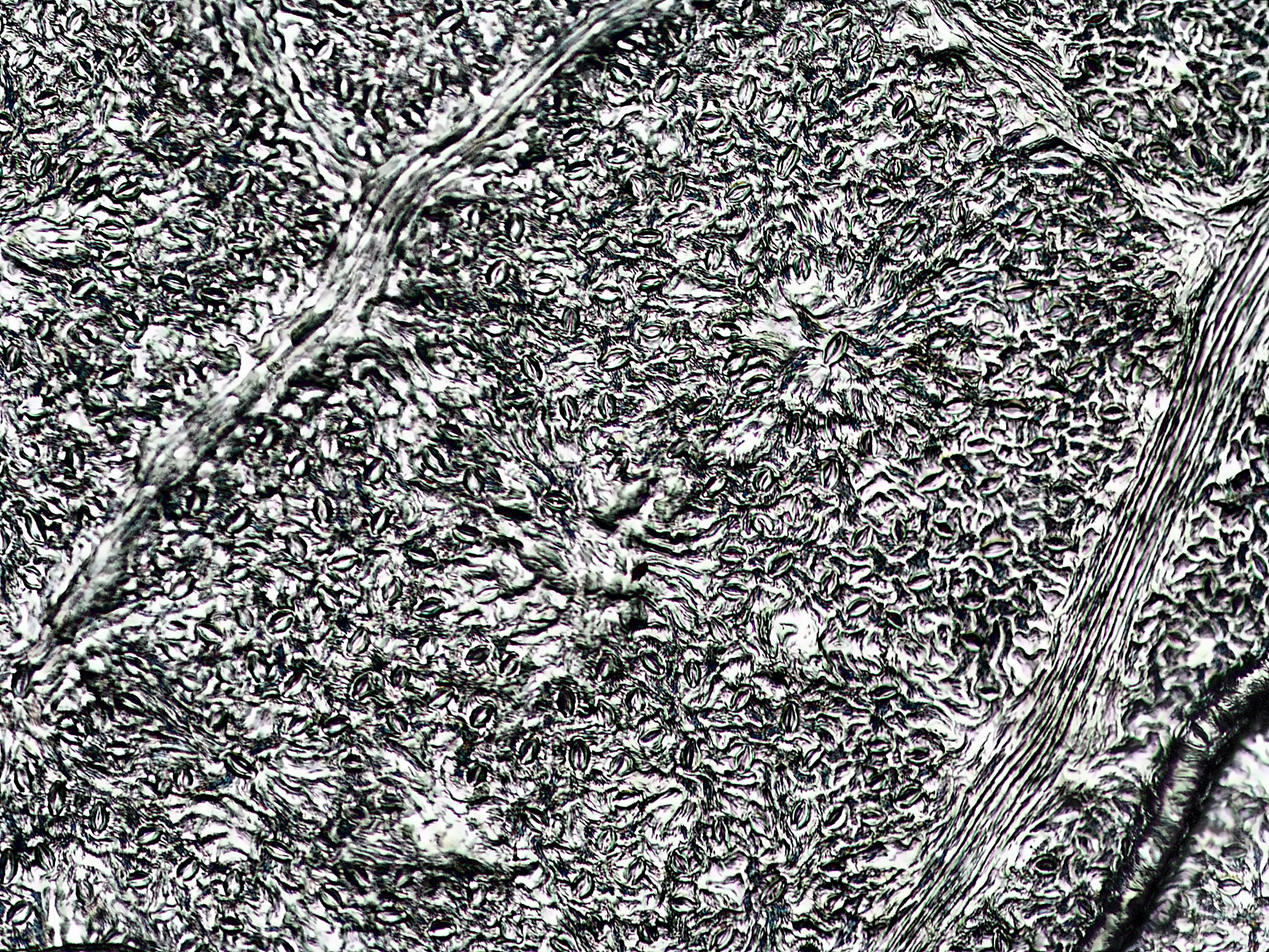stomata: (52, 444, 91, 478), (85, 382, 124, 415), (464, 50, 509, 78), (818, 330, 852, 367), (154, 222, 193, 254), (415, 282, 451, 316), (418, 444, 451, 479), (446, 332, 487, 360), (526, 266, 565, 295), (757, 875, 790, 909), (223, 747, 259, 778), (705, 923, 743, 952), (755, 89, 786, 124), (537, 487, 578, 513), (890, 414, 923, 445), (162, 572, 198, 600), (113, 302, 146, 332), (418, 62, 444, 100), (177, 485, 211, 514), (54, 718, 90, 745), (402, 99, 429, 135), (9, 662, 35, 699), (432, 8, 469, 34), (125, 409, 162, 435), (637, 647, 668, 678), (567, 869, 598, 900), (460, 759, 491, 790), (648, 70, 679, 101), (281, 667, 311, 699), (111, 690, 145, 718), (22, 506, 49, 541), (361, 23, 397, 49), (807, 77, 837, 108), (92, 218, 132, 241), (246, 650, 273, 684), (333, 70, 360, 104), (597, 349, 635, 373), (773, 144, 799, 179), (678, 737, 703, 773), (9, 760, 34, 796), (17, 397, 56, 420), (712, 27, 740, 59), (118, 652, 151, 679), (65, 55, 98, 82), (781, 412, 805, 449), (1, 900, 35, 926), (45, 779, 68, 817), (234, 541, 272, 564), (62, 6, 92, 35), (483, 258, 512, 288), (379, 574, 406, 606), (461, 466, 488, 498), (604, 195, 640, 219), (373, 903, 412, 925), (143, 902, 182, 924), (15, 564, 48, 590), (143, 379, 182, 401), (735, 73, 758, 110), (424, 918, 458, 943), (705, 616, 733, 646), (365, 80, 389, 115), (474, 311, 509, 335), (633, 917, 664, 944), (15, 437, 46, 464), (849, 34, 880, 61), (1167, 88, 1198, 115), (1216, 35, 1254, 57), (347, 671, 373, 703), (284, 532, 310, 564), (72, 322, 104, 348), (177, 146, 203, 178), (774, 34, 806, 60), (411, 595, 447, 618), (537, 193, 573, 216), (340, 800, 373, 825), (819, 457, 843, 491), (823, 410, 845, 447), (214, 107, 242, 136), (521, 806, 551, 833), (468, 700, 495, 730), (223, 507, 254, 533), (361, 458, 392, 484), (596, 389, 622, 420), (820, 7, 851, 33), (93, 364, 128, 387), (594, 697, 619, 729), (175, 667, 207, 692), (283, 447, 308, 479), (79, 494, 111, 519), (575, 230, 607, 255), (65, 276, 99, 299), (326, 546, 356, 572), (175, 855, 201, 885), (294, 209, 335, 228), (567, 736, 588, 773), (262, 838, 293, 863), (87, 799, 109, 834), (193, 620, 225, 644), (37, 494, 69, 518), (405, 545, 438, 568), (1211, 80, 1244, 103), (700, 471, 727, 499), (140, 112, 168, 139), (692, 109, 728, 130), (187, 210, 217, 235), (317, 462, 342, 492), (668, 892, 702, 914), (133, 778, 164, 802), (223, 233, 260, 253), (554, 684, 577, 716), (1057, 257, 1092, 278), (607, 750, 633, 778), (666, 849, 694, 875), (497, 652, 525, 678), (314, 429, 340, 457), (595, 101, 621, 129), (971, 678, 1004, 700), (9, 45, 38, 70), (25, 315, 54, 340), (450, 524, 486, 544), (229, 168, 253, 198), (288, 234, 318, 258), (1130, 2, 1170, 20), (1211, 117, 1241, 141), (635, 726, 666, 749), (462, 643, 493, 666), (321, 714, 352, 737), (306, 37, 337, 60), (518, 353, 541, 384), (740, 371, 772, 393), (765, 551, 792, 577), (72, 176, 99, 202), (845, 595, 873, 620), (623, 686, 648, 714), (500, 915, 524, 944), (116, 39, 145, 63), (103, 740, 136, 761), (270, 191, 303, 212), (556, 395, 577, 428), (746, 813, 776, 836), (150, 19, 180, 42), (1029, 852, 1059, 875), (789, 798, 811, 829), (503, 212, 525, 243), (0, 846, 17, 886), (601, 84, 635, 104), (605, 147, 639, 167), (515, 737, 541, 763), (1079, 54, 1105, 80), (415, 634, 442, 659), (624, 174, 651, 199), (95, 191, 127, 212), (0, 188, 28, 212), (895, 784, 924, 807), (347, 627, 370, 656), (666, 171, 689, 200), (961, 137, 990, 160), (867, 684, 902, 703), (711, 320, 744, 340), (834, 247, 856, 277), (1130, 114, 1160, 136), (315, 584, 339, 611), (427, 684, 454, 708), (606, 61, 633, 85), (560, 160, 596, 178), (155, 272, 189, 291), (633, 272, 667, 291), (233, 605, 256, 633), (886, 384, 914, 407), (36, 841, 56, 873), (100, 250, 132, 270), (916, 472, 945, 494), (549, 930, 578, 952), (266, 610, 295, 632), (857, 805, 887, 826), (0, 342, 21, 372), (559, 127, 592, 146), (751, 466, 776, 491), (822, 889, 847, 914), (750, 512, 776, 536), (929, 517, 955, 541), (336, 581, 362, 605), (353, 862, 377, 888), (722, 349, 748, 373), (1001, 1, 1027, 25), (312, 496, 335, 523), (724, 183, 751, 206), (683, 658, 703, 689), (560, 307, 580, 338), (369, 506, 391, 534), (436, 421, 464, 443), (687, 395, 715, 417), (1040, 536, 1074, 554), (860, 428, 879, 460), (284, 715, 316, 734), (173, 933, 205, 952), (823, 804, 848, 828), (340, 754, 370, 774), (975, 166, 1005, 186), (829, 762, 855, 785), (1186, 143, 1209, 169), (589, 284, 624, 301), (779, 704, 801, 731), (611, 789, 644, 807), (466, 883, 488, 910), (1198, 572, 1220, 599), (473, 585, 504, 604), (400, 497, 421, 525), (33, 88, 61, 109), (917, 139, 946, 159), (878, 269, 898, 298), (385, 710, 409, 734), (225, 561, 249, 585), (111, 180, 143, 198), (198, 286, 230, 304), (1184, 723, 1208, 747), (930, 91, 953, 116), (967, 555, 993, 577), (1099, 404, 1129, 423), (818, 570, 839, 597), (957, 632, 984, 653), (622, 857, 643, 884), (206, 708, 233, 729), (1084, 9, 1111, 30), (905, 572, 933, 592), (712, 816, 732, 844), (125, 869, 153, 889), (975, 319, 1006, 337), (594, 828, 617, 852), (173, 765, 197, 788), (897, 220, 920, 244), (903, 746, 932, 765), (1009, 209, 1038, 228), (733, 746, 755, 771), (738, 0, 763, 22), (717, 582, 749, 599), (662, 345, 696, 361), (716, 544, 746, 562), (851, 525, 871, 552), (1008, 595, 1038, 613), (224, 870, 244, 897), (705, 244, 723, 274), (1219, 843, 1247, 862), (581, 793, 603, 817), (940, 398, 971, 415), (791, 253, 812, 278), (1150, 271, 1175, 292), (1111, 53, 1140, 71), (949, 198, 969, 224), (900, 360, 926, 380), (368, 139, 387, 166), (1184, 22, 1203, 49), (956, 362, 983, 381), (111, 438, 141, 455), (633, 228, 663, 245), (1064, 186, 1094, 203), (981, 539, 1009, 557), (637, 321, 665, 339), (812, 49, 840, 67), (881, 611, 906, 631), (823, 146, 848, 166), (812, 859, 845, 874), (393, 866, 412, 892), (58, 157, 77, 183), (1249, 553, 1268, 579), (132, 826, 161, 843), (863, 188, 892, 205), (774, 771, 792, 798), (346, 129, 364, 156), (738, 268, 761, 289), (955, 593, 985, 609), (893, 95, 913, 119), (865, 739, 893, 756), (1000, 403, 1028, 420), (390, 665, 409, 690), (30, 153, 49, 178), (991, 926, 1009, 952), (1080, 828, 1098, 854), (214, 916, 245, 931), (1013, 236, 1044, 251), (73, 877, 94, 899), (729, 687, 749, 710), (765, 230, 785, 253), (1108, 206, 1135, 223), (457, 610, 481, 629), (1071, 459, 1096, 477), (804, 744, 821, 770), (378, 789, 404, 806), (909, 289, 935, 306), (865, 389, 882, 415), (1072, 898, 1094, 918), (1202, 929, 1225, 948), (207, 612, 235, 627), (506, 390, 534, 405), (713, 137, 735, 156), (977, 476, 1000, 494), (885, 156, 903, 179), (1217, 878, 1241, 895), (1051, 488, 1080, 502), (1142, 231, 1171, 245), (891, 516, 906, 543), (967, 438, 994, 453), (1073, 232, 1100, 247), (1109, 256, 1136, 271), (790, 495, 806, 520), (571, 368, 596, 384), (1032, 289, 1048, 314), (941, 370, 963, 388), (1049, 358, 1067, 380), (316, 885, 342, 900), (936, 623, 951, 648), (1090, 101, 1115, 116), (595, 656, 612, 678), (1002, 284, 1028, 298), (1099, 118, 1119, 136), (975, 345, 997, 361), (1002, 135, 1022, 152), (1009, 364, 1031, 379), (1122, 301, 1144, 316), (1027, 439, 1050, 453), (865, 773, 885, 789), (1071, 362, 1091, 378), (155, 776, 174, 792), (1049, 306, 1072, 319), (1031, 372, 1050, 387), (1015, 449, 1030, 464)
